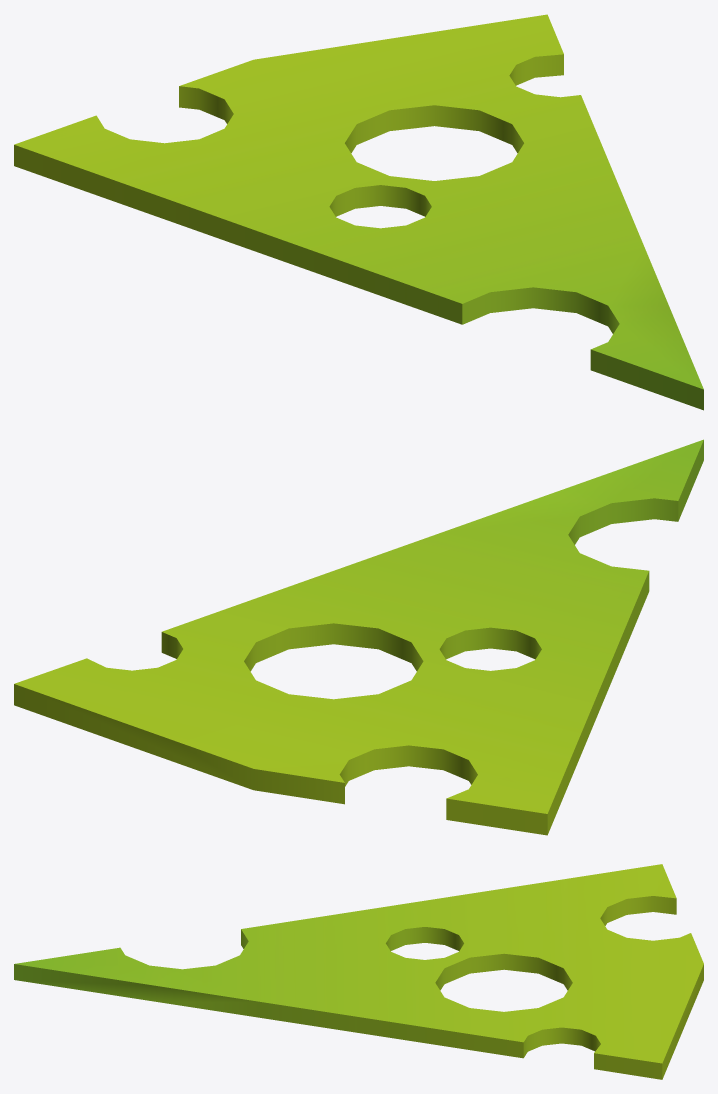
Rendered from Сheese_03.fbx.
3 renders of one model, top to bottom at view 1: azimuth 30°, elevation 25°; view 2: azimuth 150°, elevation 25°; view 3: azimuth 270°, elevation 25°, orthographic. The views are drawn at different scales.
Parts seen in each view (by area): view 1: Сheese_03; view 2: Сheese_03; view 3: Сheese_03.
Part boxes in pixels (x1=…): Сheese_03: x1=14, y1=14, x2=703, y2=410; Сheese_03: x1=14, y1=439, x2=703, y2=835; Сheese_03: x1=14, y1=864, x2=703, y2=1079.
Size of the model in its own units: 74.98 by 110 by 2.88.
